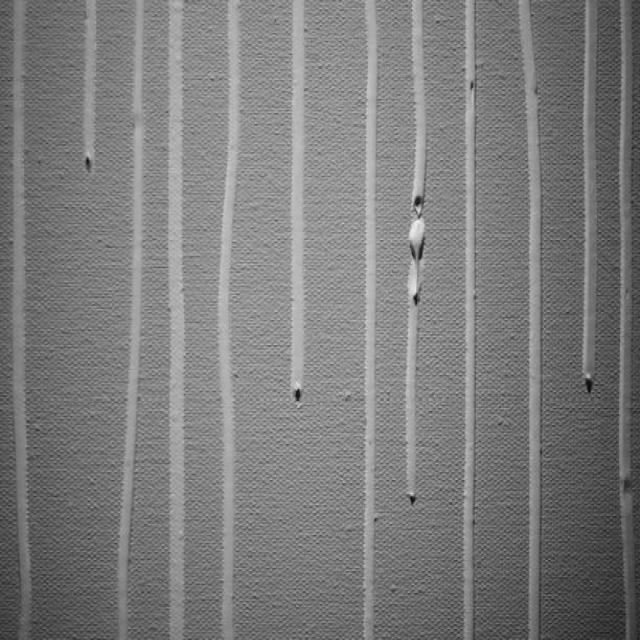paint drips: (208, 0, 249, 640), (512, 0, 552, 640), (115, 0, 152, 640), (355, 0, 391, 640), (452, 1, 485, 640), (399, 0, 434, 512), (612, 0, 640, 640), (165, 0, 192, 640), (10, 0, 36, 640), (282, 0, 319, 425), (569, 0, 605, 398), (80, 0, 102, 190)
